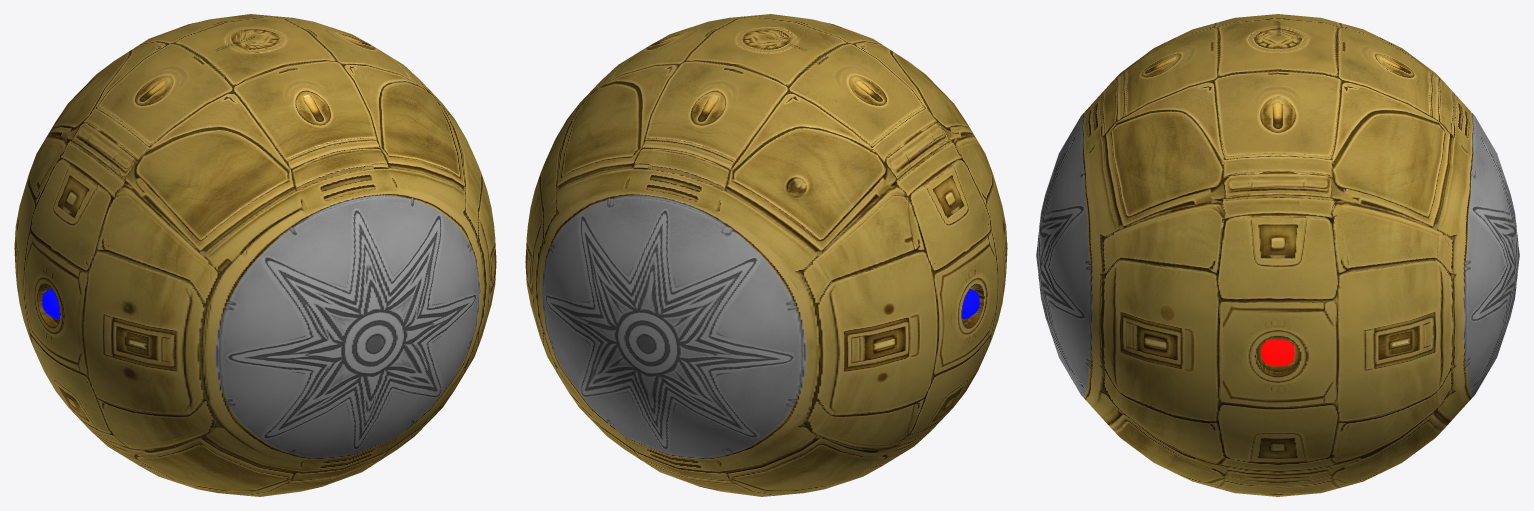
Rendered from inanna_orb.glb.
The picture shows the model from 3 angles, left to right: view 1: azimuth 30°, elevation 25°; view 2: azimuth 150°, elevation 25°; view 3: azimuth 270°, elevation 25°; orthographic projection.
Parts seen in each view (by area): view 1: Sphere; view 2: Sphere; view 3: Sphere.
Boxes of the visible parts, <box> form: Sphere: <box>14,14,496,496</box>; Sphere: <box>525,14,1007,496</box>; Sphere: <box>1036,14,1519,496</box>.
Bounding box in the file's own units: 2 × 2 × 2.
3 materials, 1 textured.
